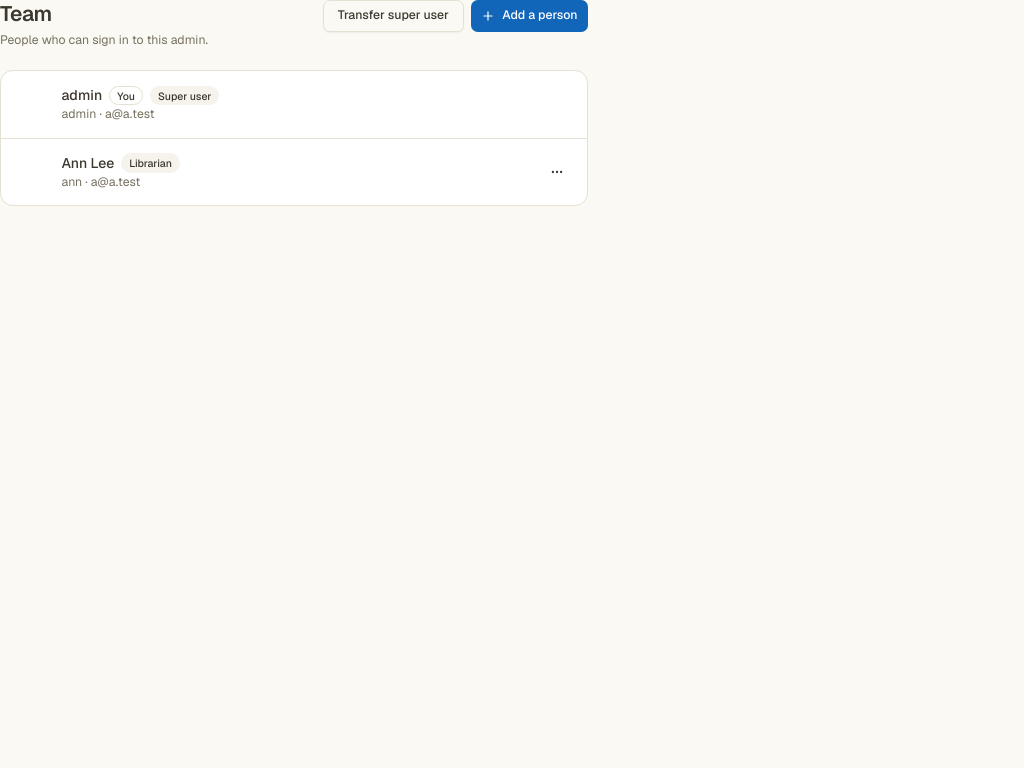
Test: TeamPage › keeps a refused delete in the form
Expected: the text "Ann Lee" is shown, x1=62 y1=152 x2=114 y2=174
Press Enter in the button named "Actions for Ann Lee", box x1=542 y1=156 x2=573 y2=188
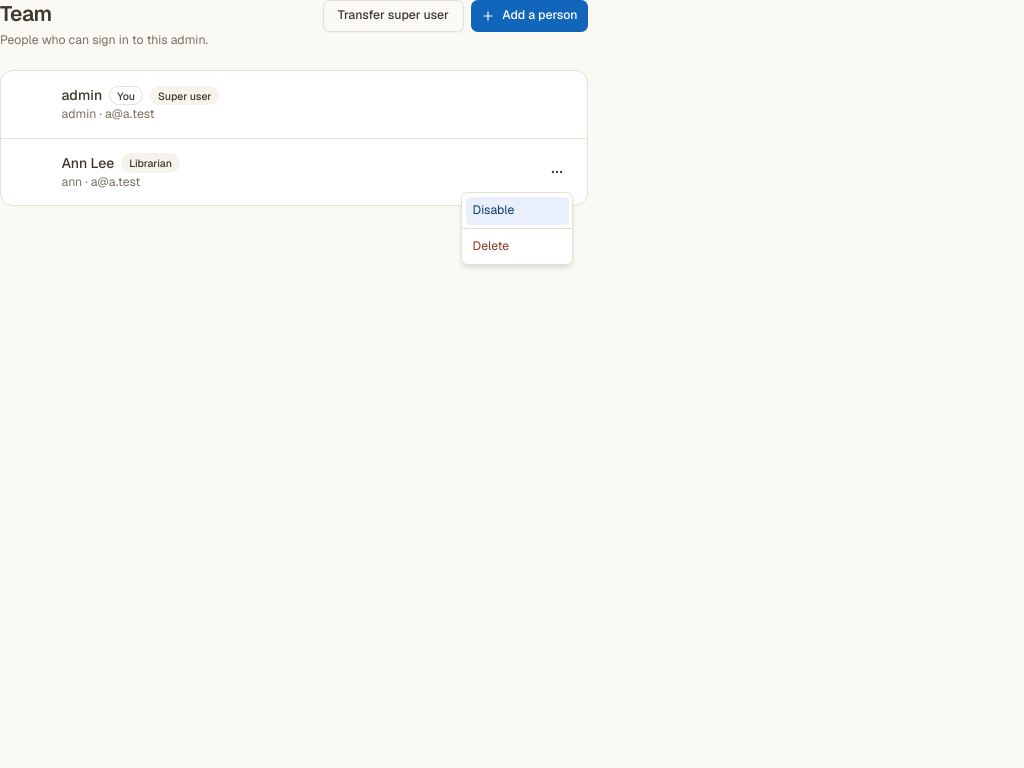
Click the menu item "Delete": (491, 246) x1=472 y1=238 x2=509 y2=254
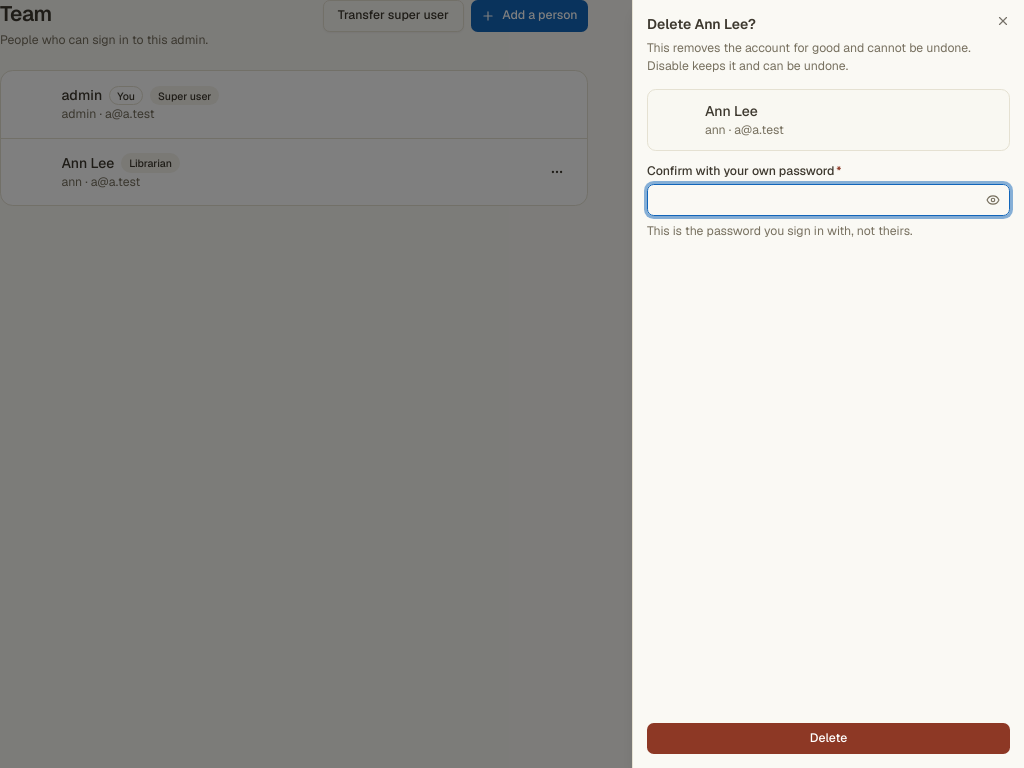
In the password field labelled "Confirm with your own password*": (828, 200) x1=647 y1=184 x2=1010 y2=216, type "nope"
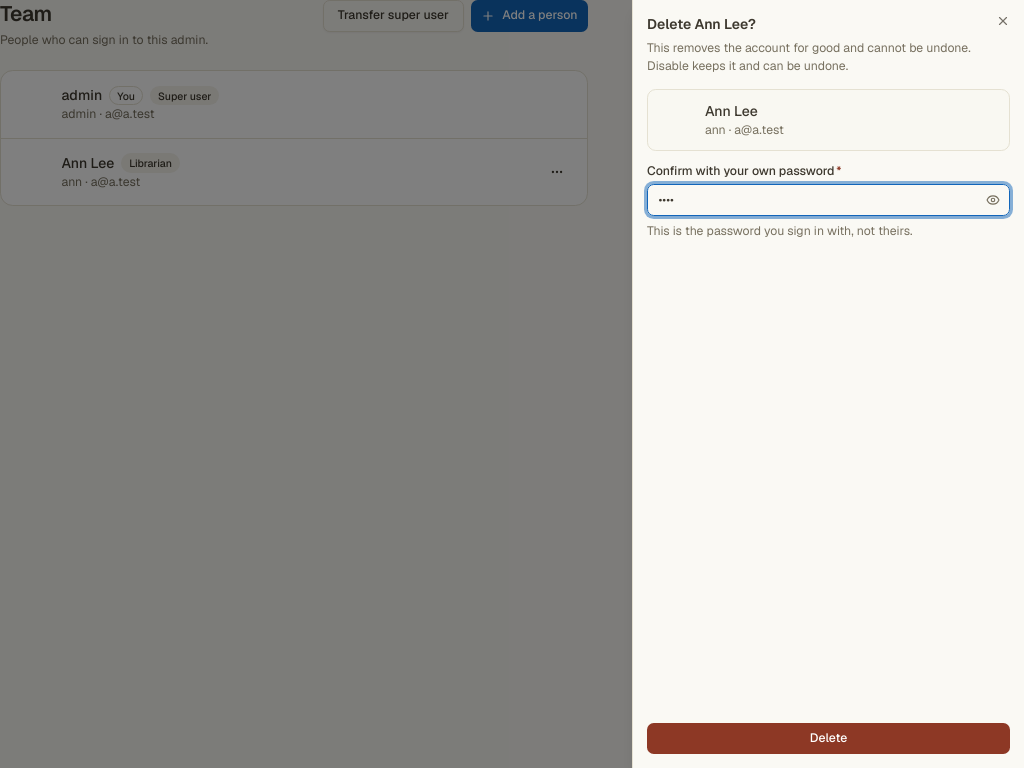
Click the button "Delete": (828, 738) x1=647 y1=722 x2=1010 y2=754
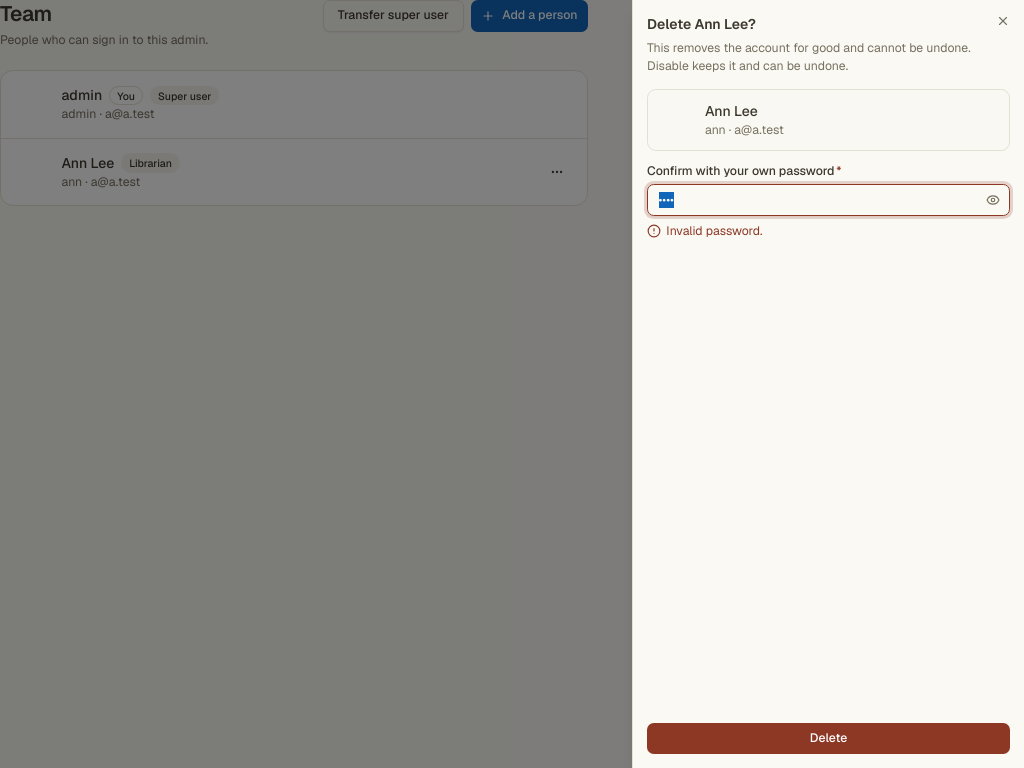
Result: the heading "Delete Ann Lee?" is shown at x1=647 y1=15 x2=756 y2=33
Result: the text "Invalid password." is shown at x1=647 y1=222 x2=762 y2=238
